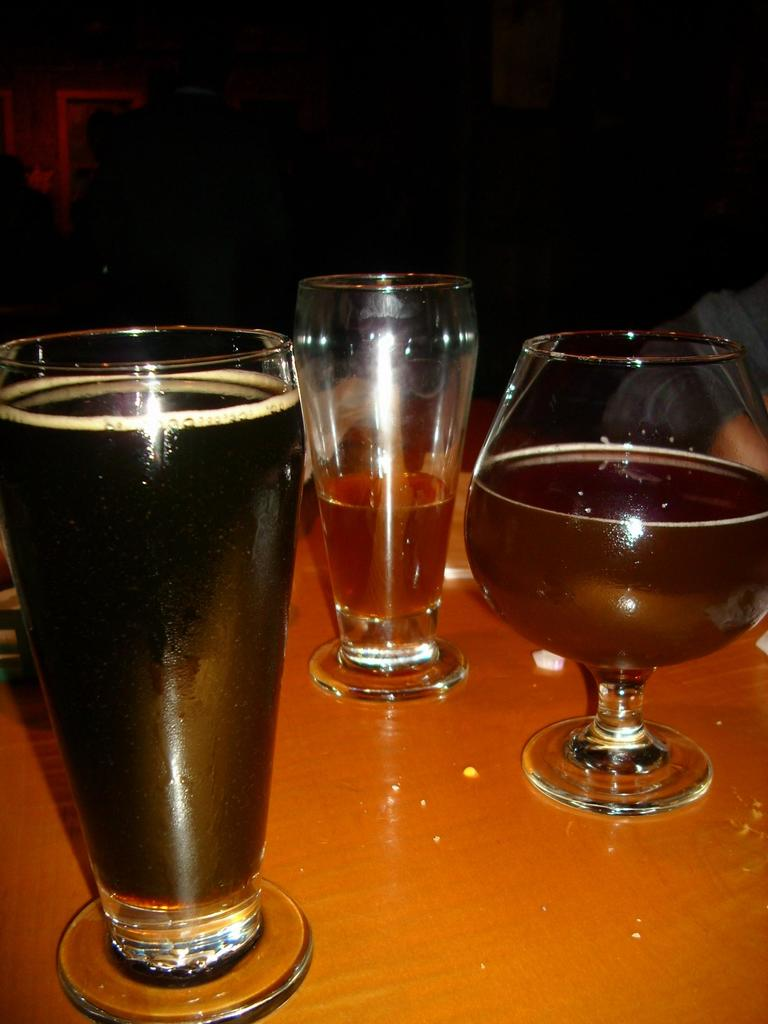Beer: (312, 462, 453, 662)
